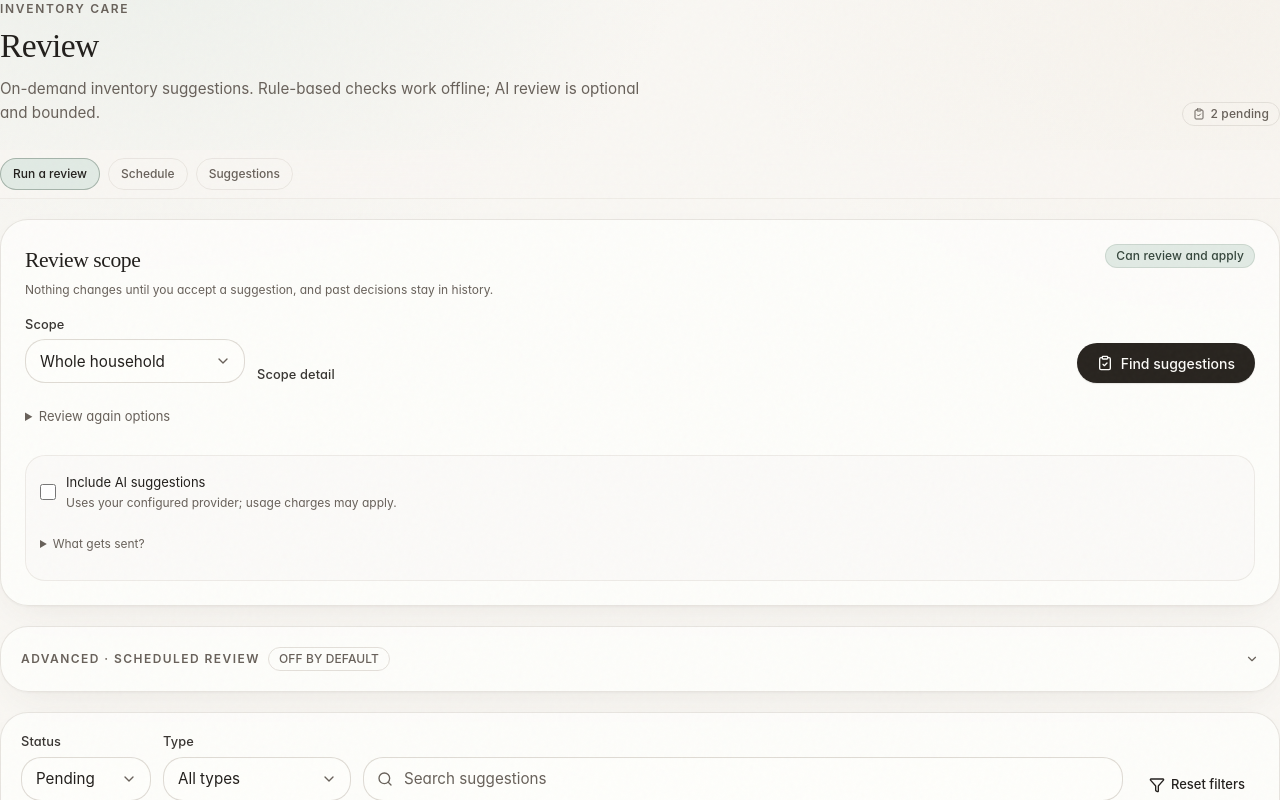
Test: ReviewPage › closes AI confirmation while the first batch is running and exposes cancellation
Click the checkbox labelled "Include AI suggestions" at (48, 492), box [40,484,56,500]
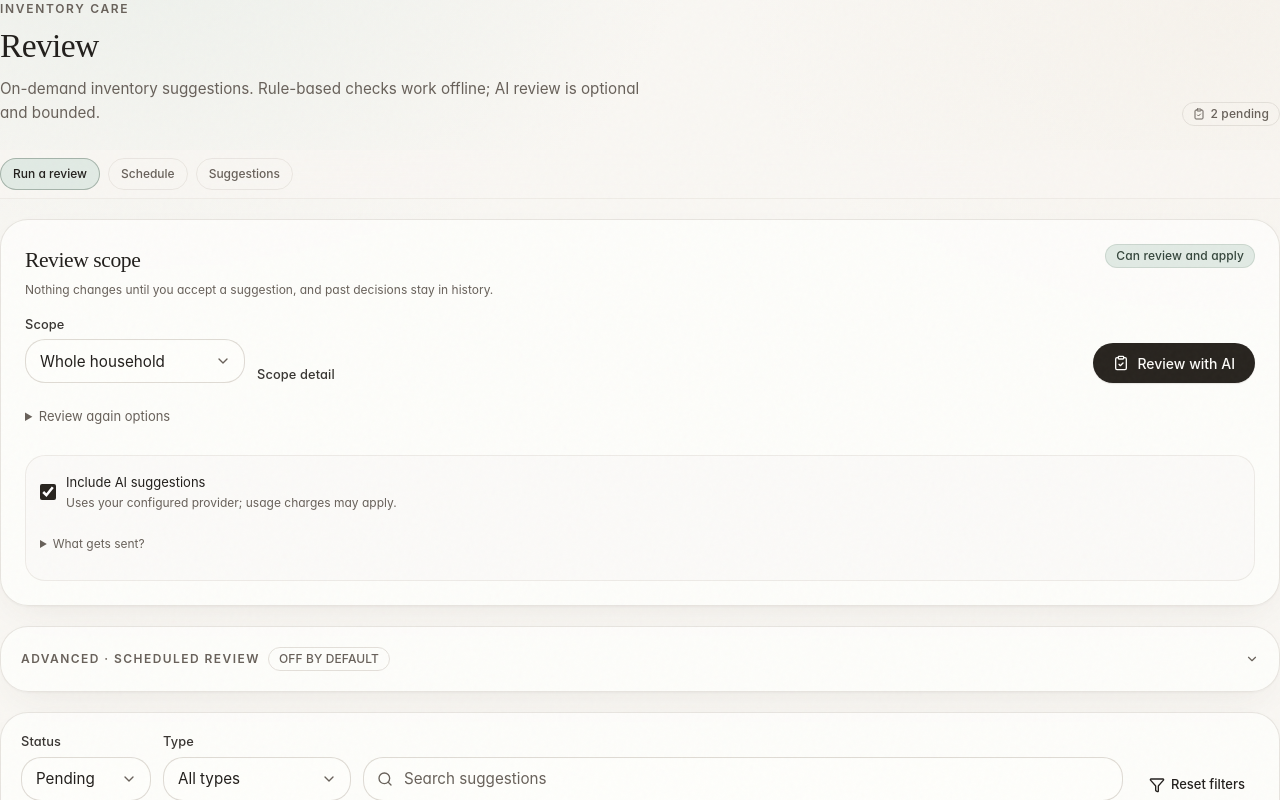
Click the button "Review with AI" at (1174, 363), box [1093,343,1255,383]
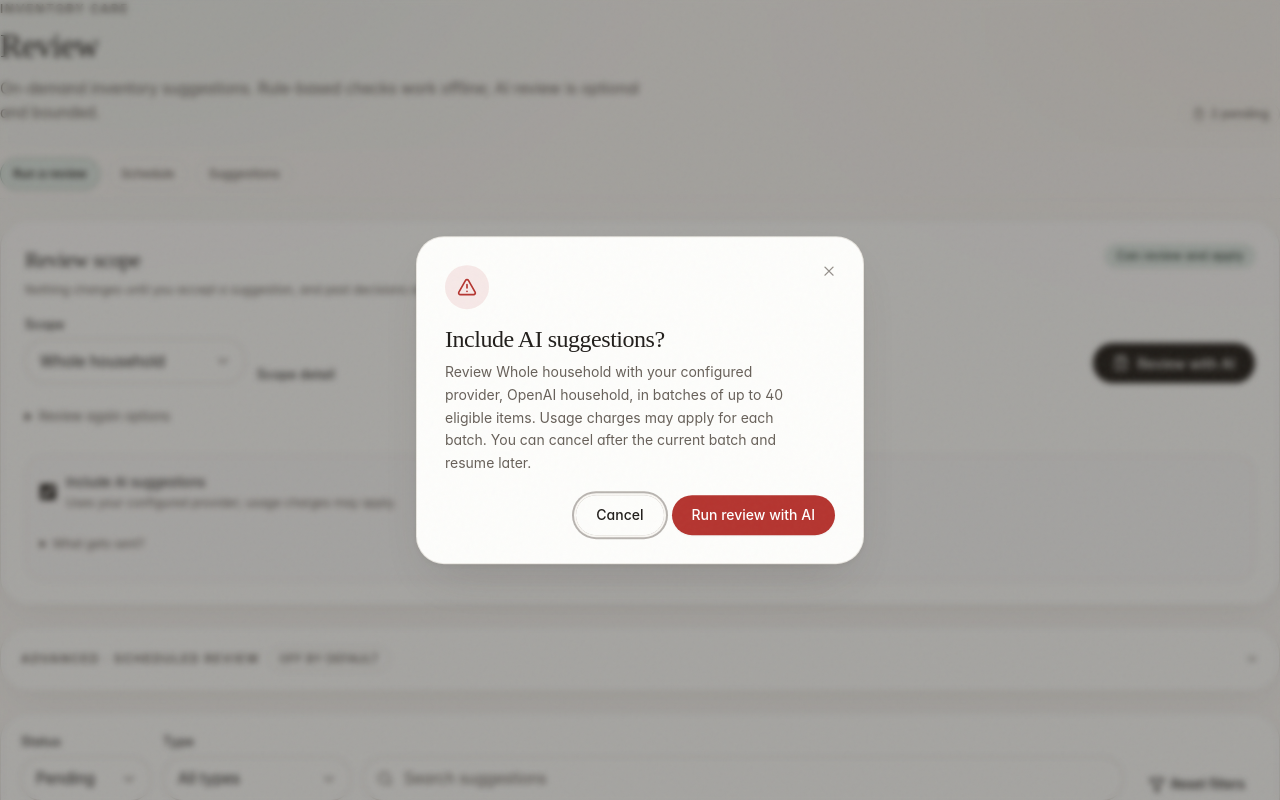
Click the button "Run review with AI" at (753, 515), box [672,495,835,535]
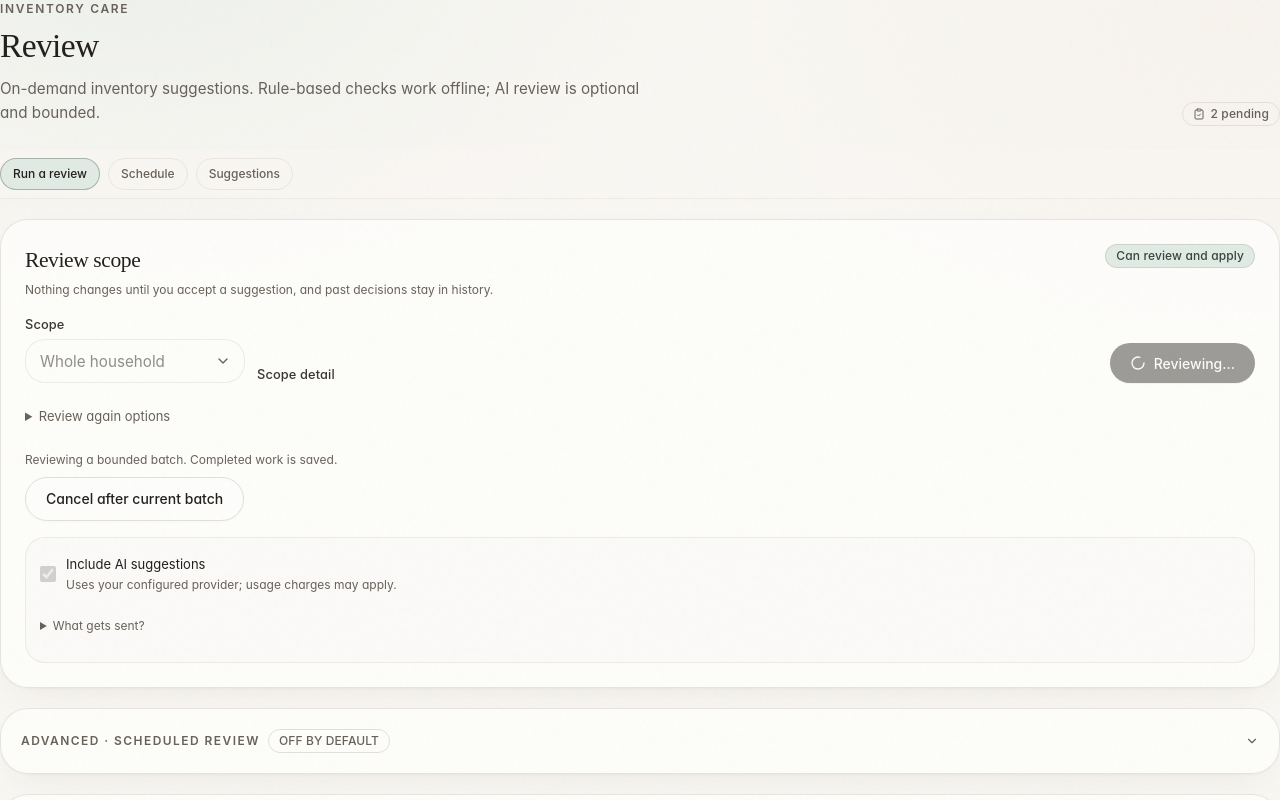
Result: the dialog is gone
Click the button "Cancel after current batch" at (135, 499), box [25,477,244,521]
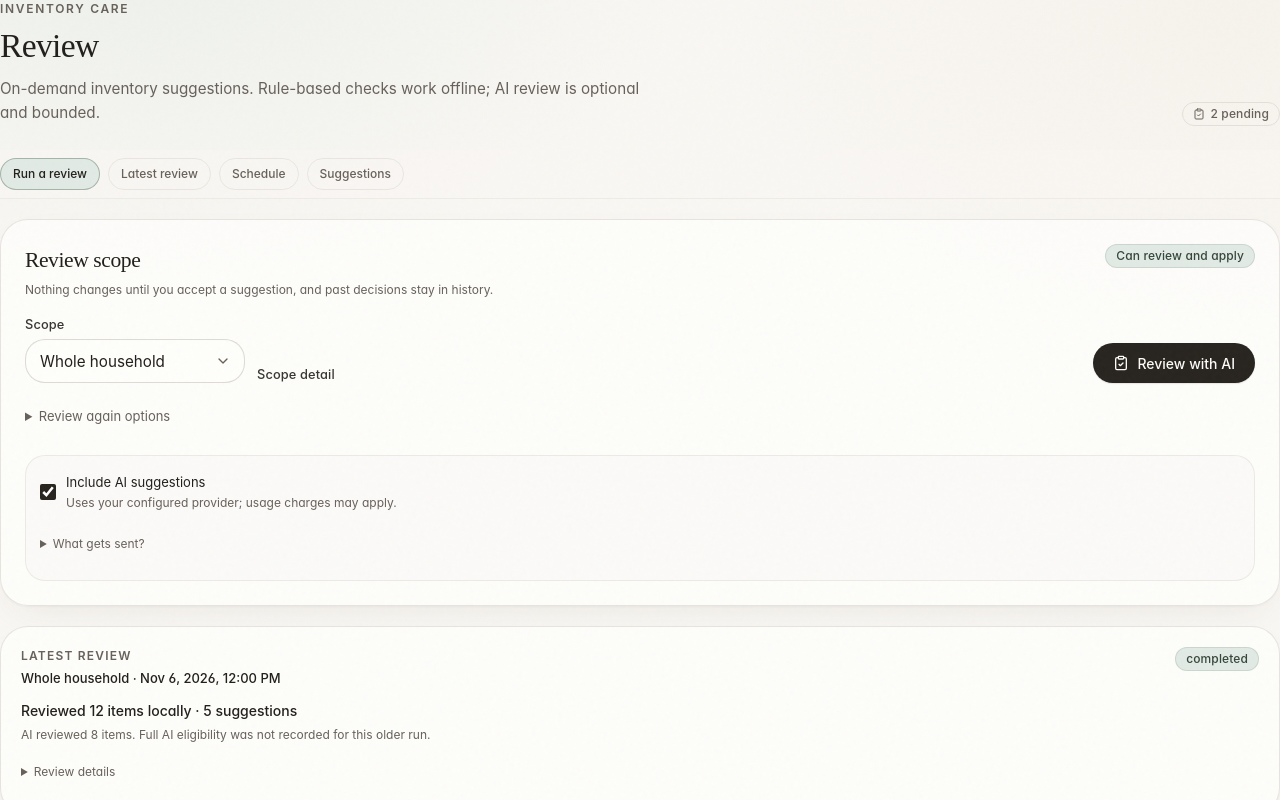
Result: the button "Review with AI" is enabled at [1093,343,1255,383]
